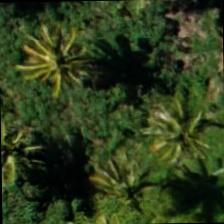Kelapa_Sawit: (2, 15, 94, 107), (134, 93, 223, 186), (80, 144, 172, 223)
